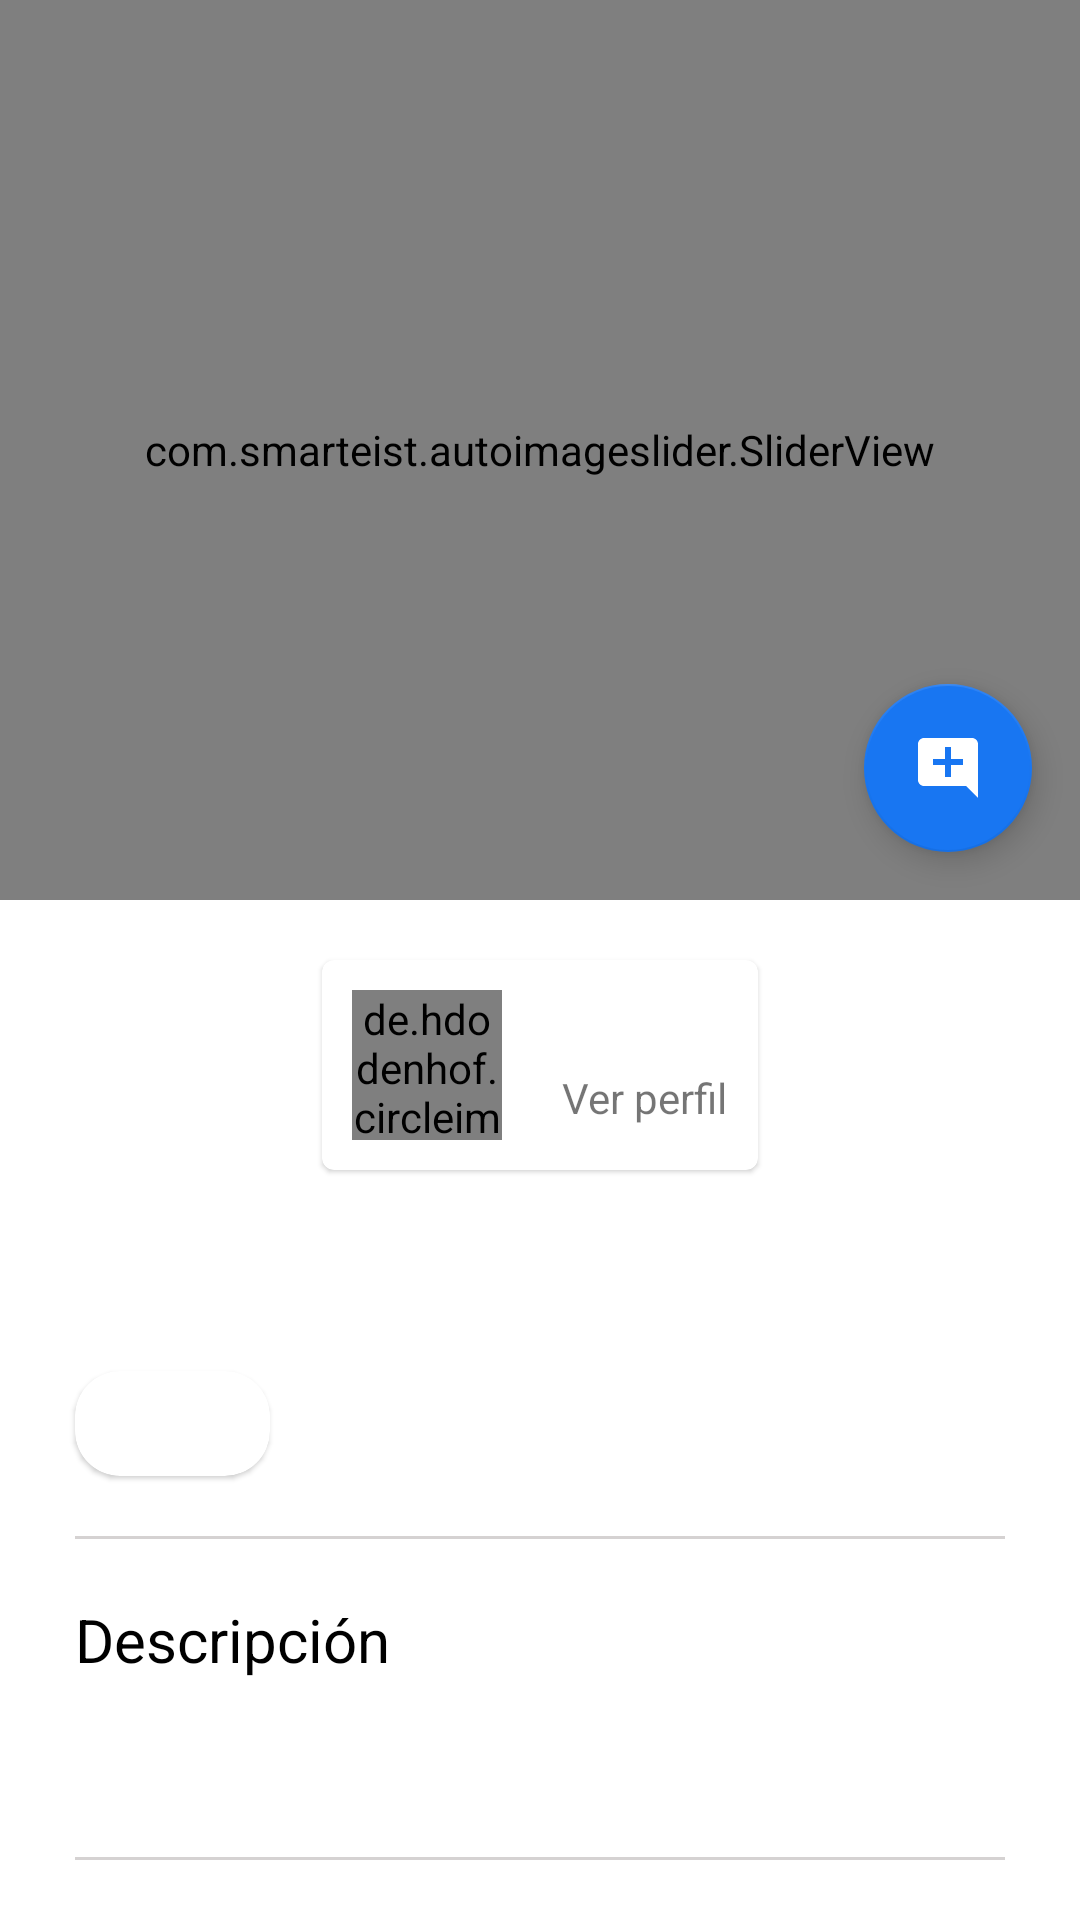

Where to tap for icons on this 1080*1920 app screen, as (x=x, y=y):
add comment: (x=948, y=768)
